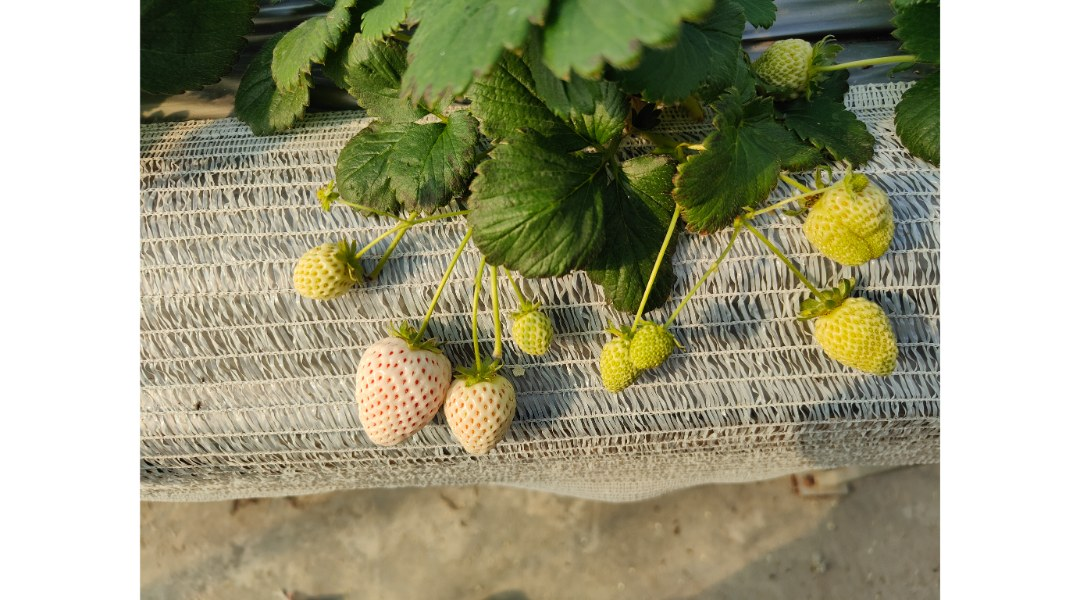berry: (356, 324, 451, 459), (804, 164, 905, 270), (804, 290, 915, 374), (448, 371, 524, 460), (282, 241, 360, 305), (736, 32, 812, 96), (590, 322, 648, 397), (631, 314, 678, 376), (511, 304, 563, 358)
strain: (414, 227, 476, 349), (632, 204, 679, 320), (674, 225, 735, 314), (749, 220, 816, 289), (818, 49, 901, 76), (492, 262, 502, 360), (760, 192, 805, 212)
